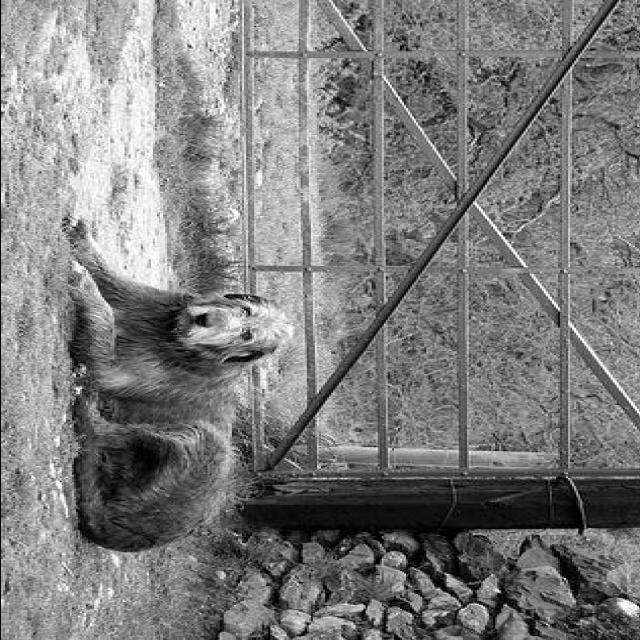irish_wolfhound: (64, 218, 294, 554)
